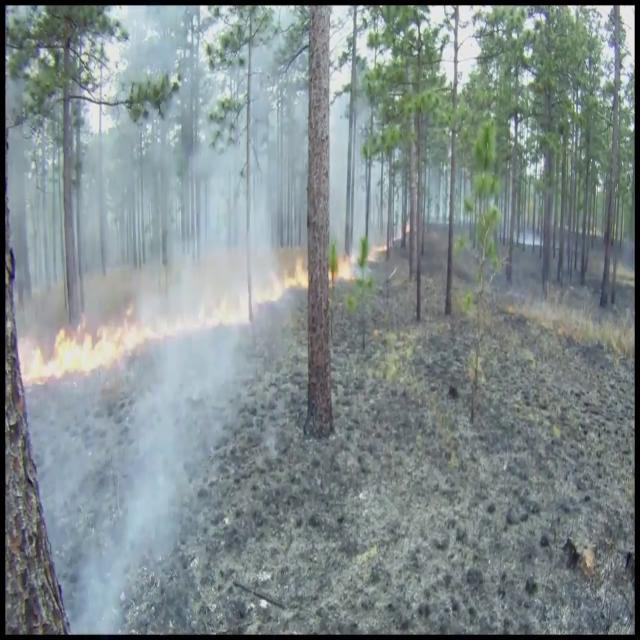Fire: (27, 304, 153, 382), (281, 251, 310, 297), (332, 252, 358, 286)
Smoke: (92, 78, 280, 630)
